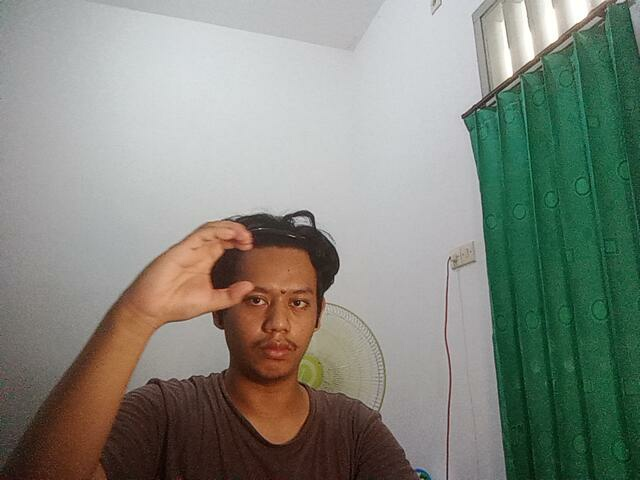C: (116, 216, 263, 337)
